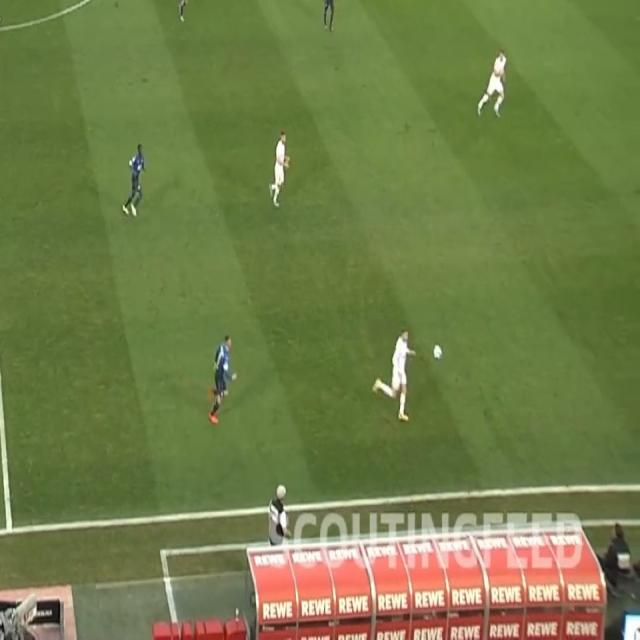ball: (433, 342, 443, 360)
